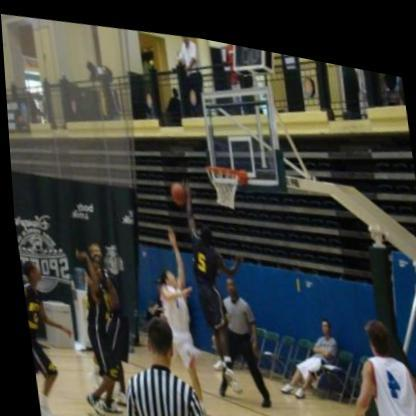basketball: (168, 174, 186, 198)
